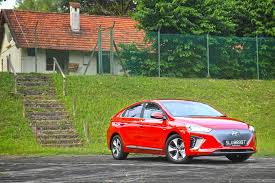car: (102, 93, 261, 171)
